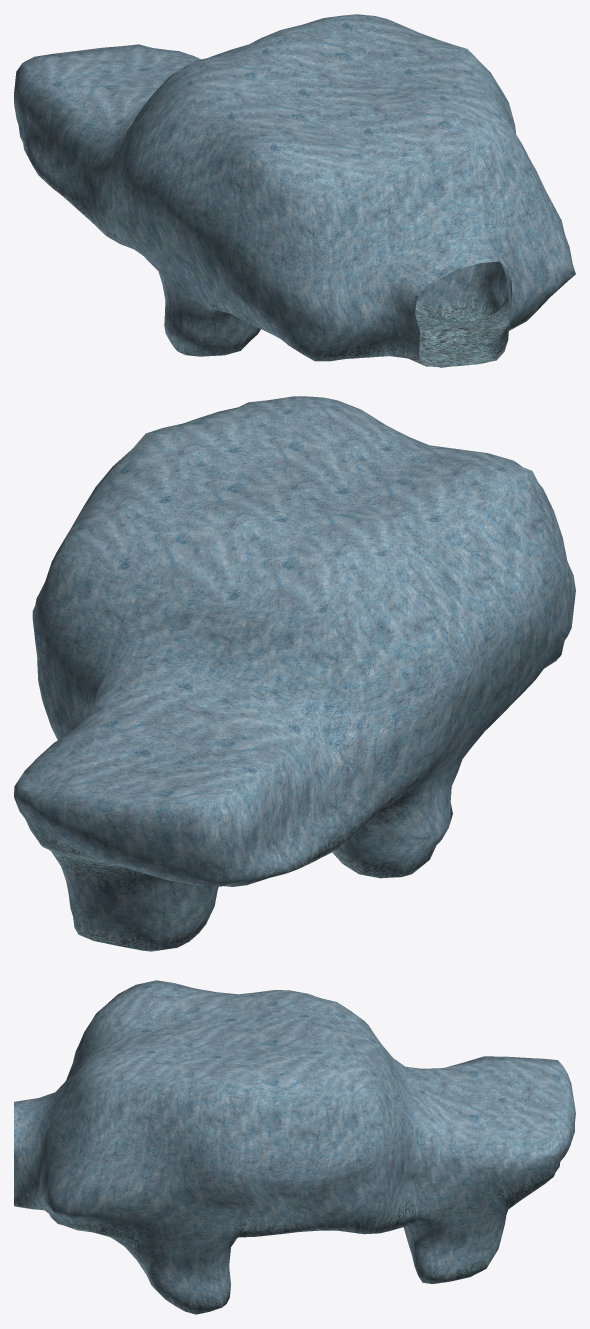
Rendered from thm_all_cave_flatland_s01_ice_r7_mesh_r7.fbx.
3 views of the same model, one above another, from view 1: azimuth 30°, elevation 25°; view 2: azimuth 150°, elevation 25°; view 3: azimuth 270°, elevation 25° (orthographic). The views are drawn at different scales.
Visible parts, largest first — view 1: mesh_node; view 2: mesh_node; view 3: mesh_node.
Boxes of the visible parts, box(x1,y1,x2,y2) form: mesh_node: box(14, 14, 575, 367); mesh_node: box(14, 396, 575, 951); mesh_node: box(14, 980, 575, 1314).
Size of the model in its own units: 38.19 by 31.19 by 64.55.
